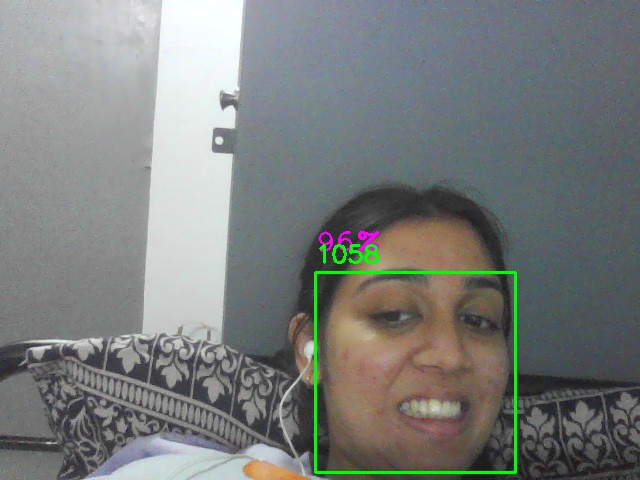real: (315, 272, 516, 473)
